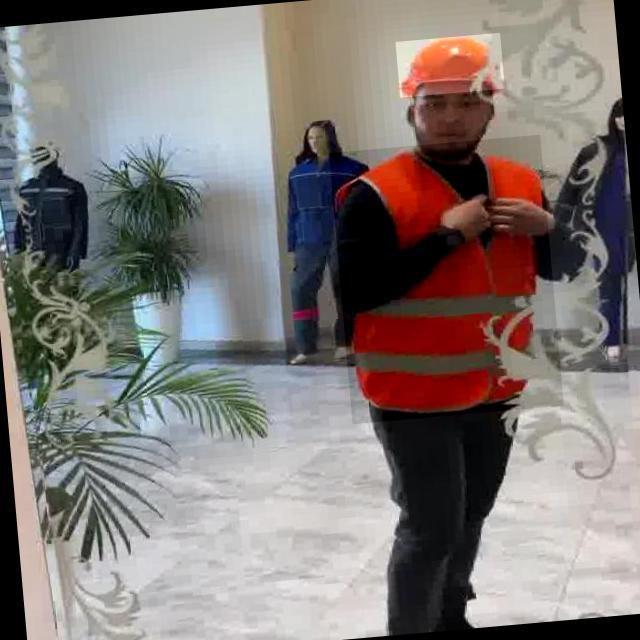Helmet: (395, 32, 504, 97)
Safety Vest: (329, 135, 564, 424)
